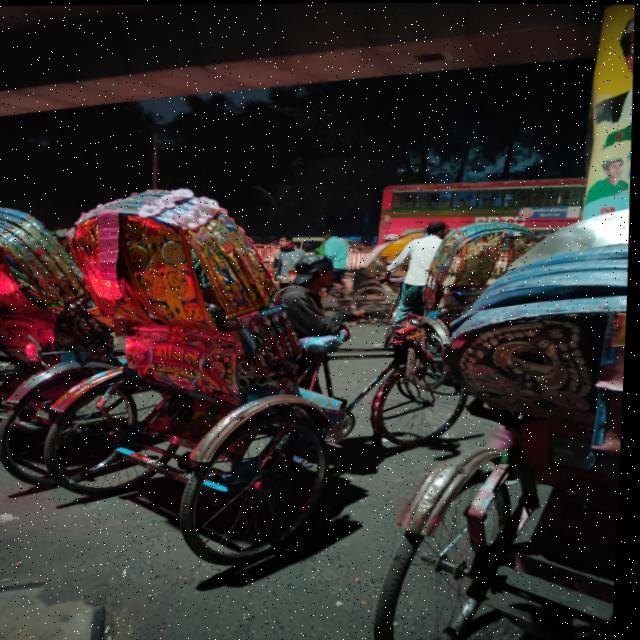rikshaw: (73, 169, 386, 601)
